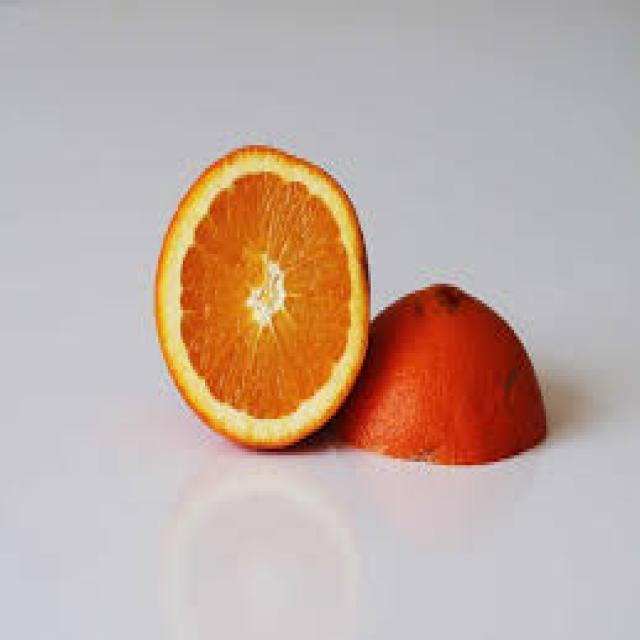non-mango: (153, 143, 370, 449), (336, 282, 547, 465)
